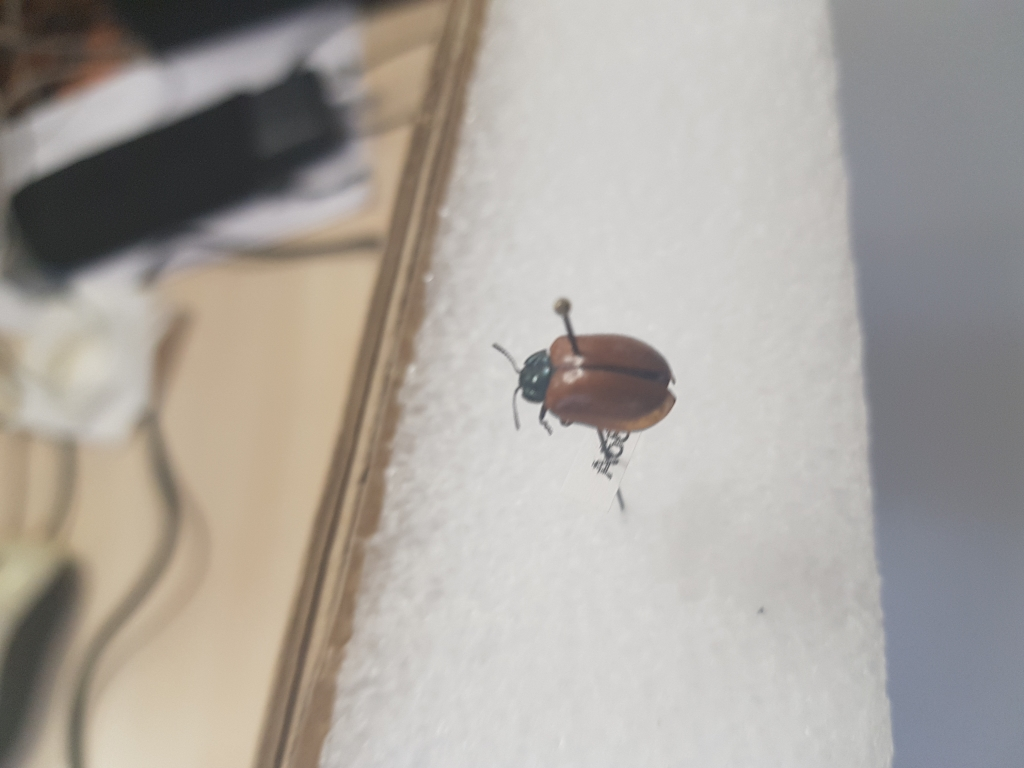Chrysomela_populi: (484, 314, 680, 449)
